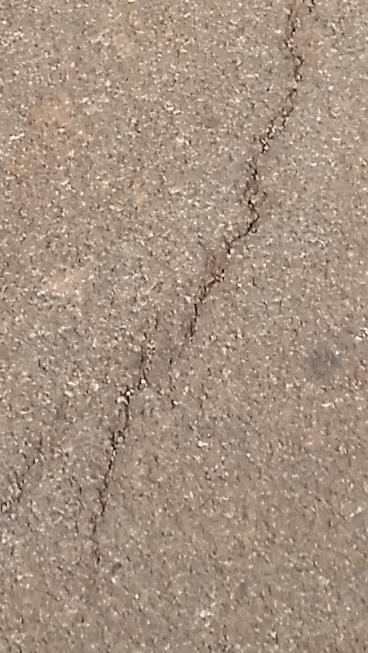A: (57, 9, 320, 598)
